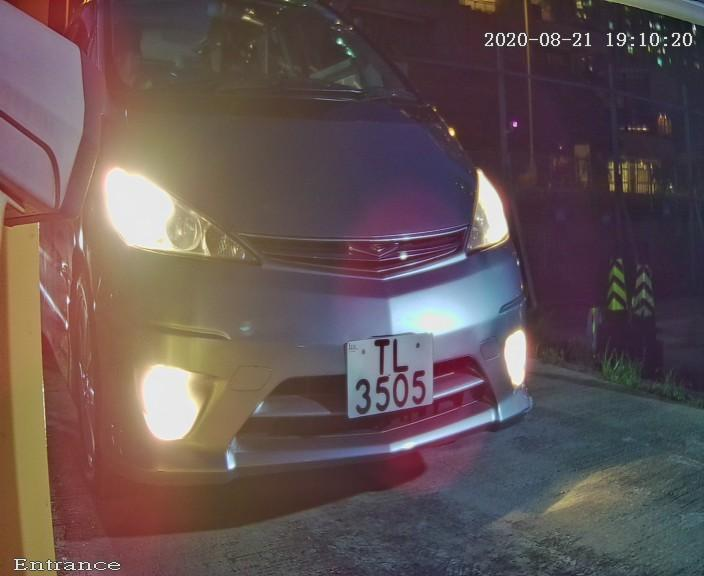Car: (7, 11, 576, 556)
License Plate: (327, 319, 450, 430)
